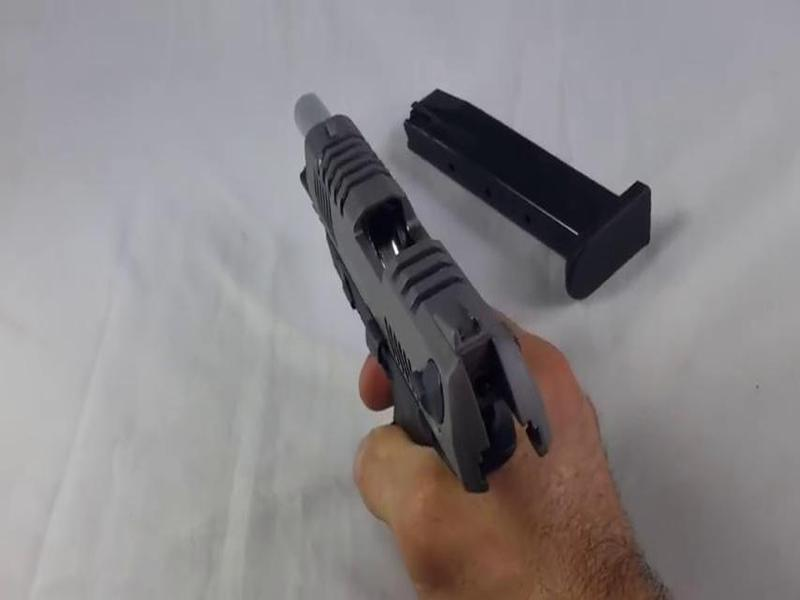Pistola: (250, 57, 569, 529)
